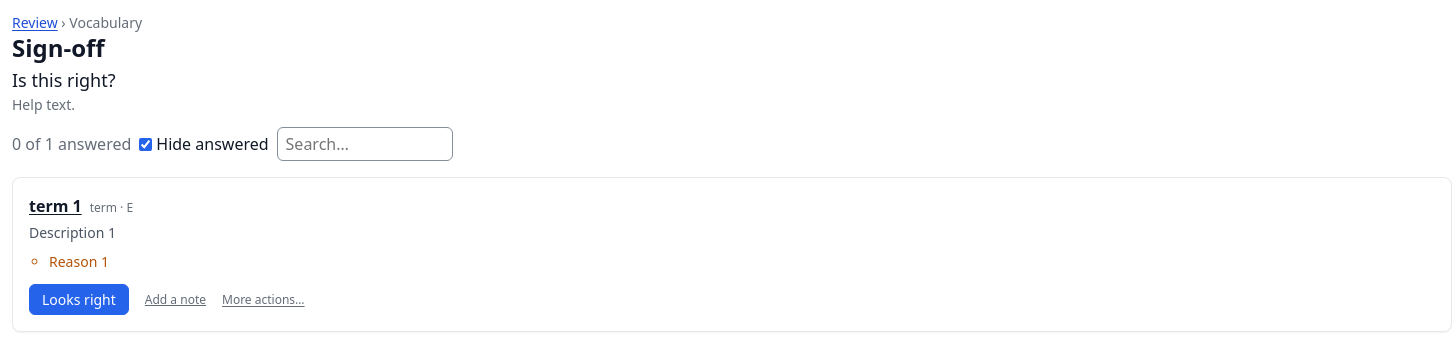
review type page › retract takes the vote back and reopens the row
Expected: the link "term 1" is shown, left=29, top=195, right=82, bottom=217
Click the button "Looks right": point(79, 300) left=29, top=284, right=129, bottom=315
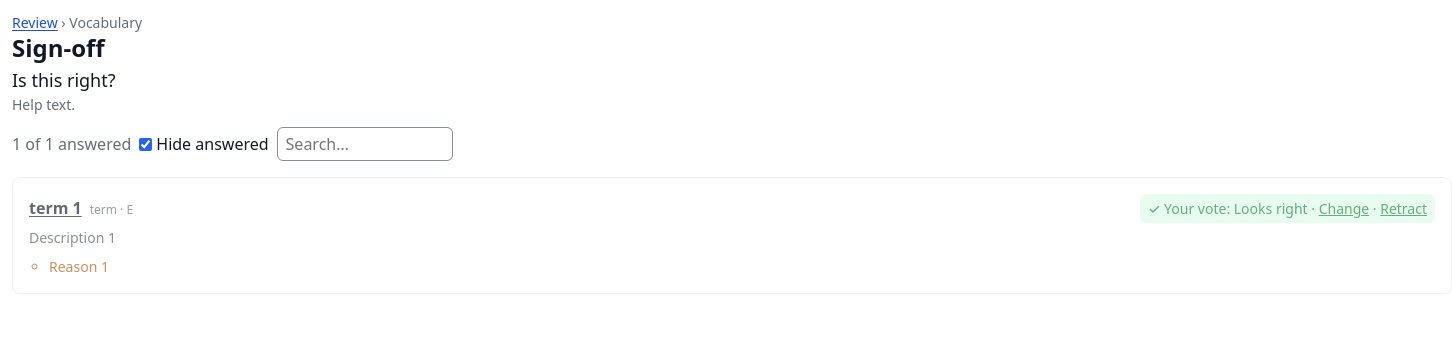
Click the button "Retract": point(1404, 208) left=1380, top=198, right=1427, bottom=219
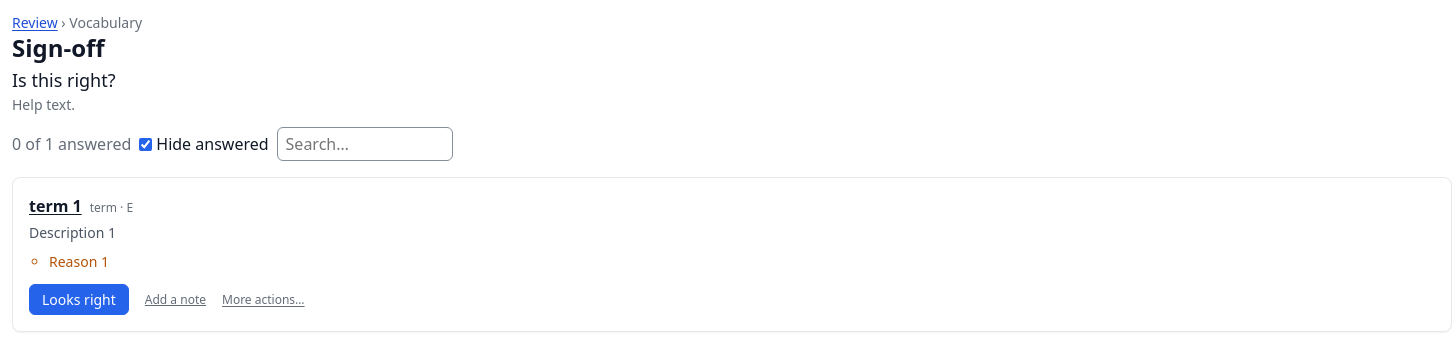
Expected: the button "Looks right" is shown, left=29, top=284, right=129, bottom=315
Now the text with test id "progress" reads "0 of 1 answered", box left=12, top=132, right=131, bottom=156
